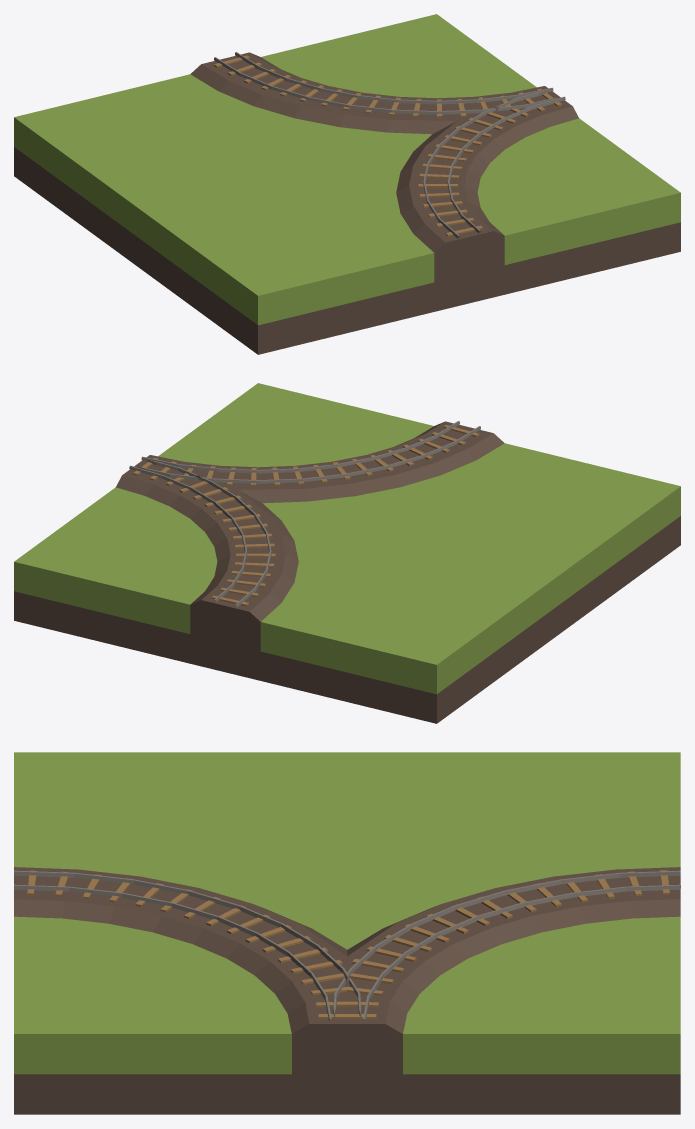
File: rail-tile-conjunction.fbx
The picture shows the model from 3 angles, top to bottom: view 1: azimuth 30°, elevation 25°; view 2: azimuth 150°, elevation 25°; view 3: azimuth 270°, elevation 25°; orthographic projection. The views are drawn at different scales.
Parts seen in each view (by area): view 1: rail-tile-conjunction; view 2: rail-tile-conjunction; view 3: rail-tile-conjunction.
Part boxes in pixels (left/top/right/bottom): rail-tile-conjunction: left=14, top=14, right=680, bottom=354; rail-tile-conjunction: left=14, top=383, right=680, bottom=723; rail-tile-conjunction: left=14, top=752, right=680, bottom=1114.
Bounding box in the file's own units: 3000 × 475 × 3001.
